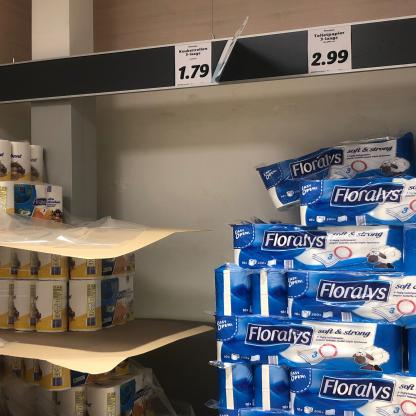prtg: (308, 27, 353, 75), (175, 43, 213, 87)
